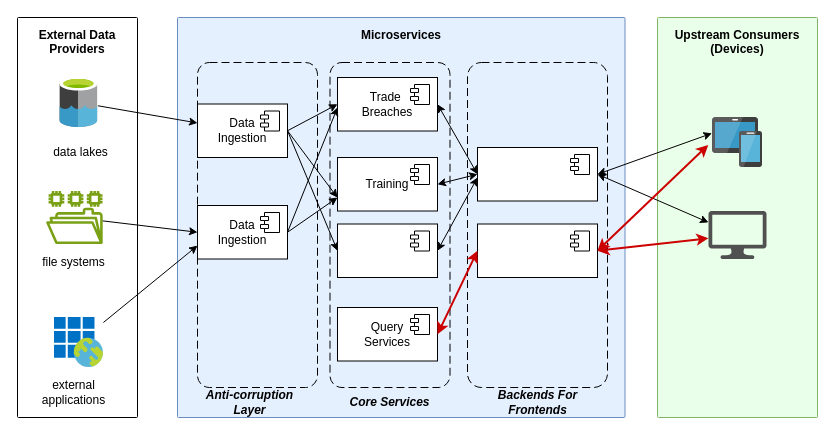
Image size: 835x435. Some labels were removed from this diagram. The centre of each missing label's shape, as x and y in pixels:
Core Leave Policy: the point at 387,250
Dashboard BFF: the point at 537,173
Query BFF: the point at 537,250
